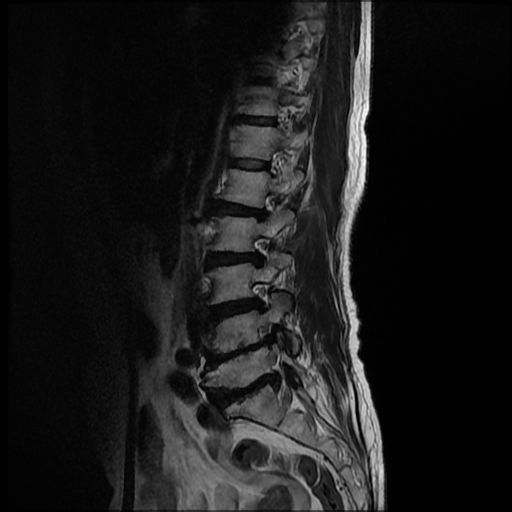RFS0: (235, 231, 283, 273), (237, 273, 283, 316), (245, 184, 284, 226)
